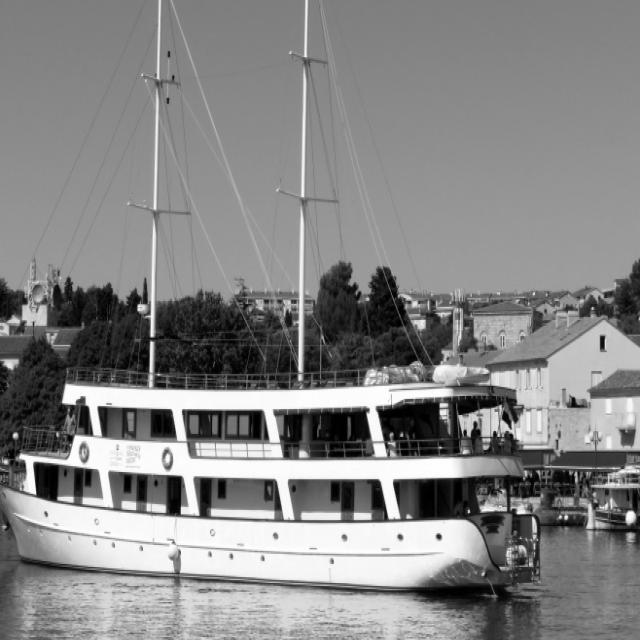cruises: (1, 364, 549, 614)
